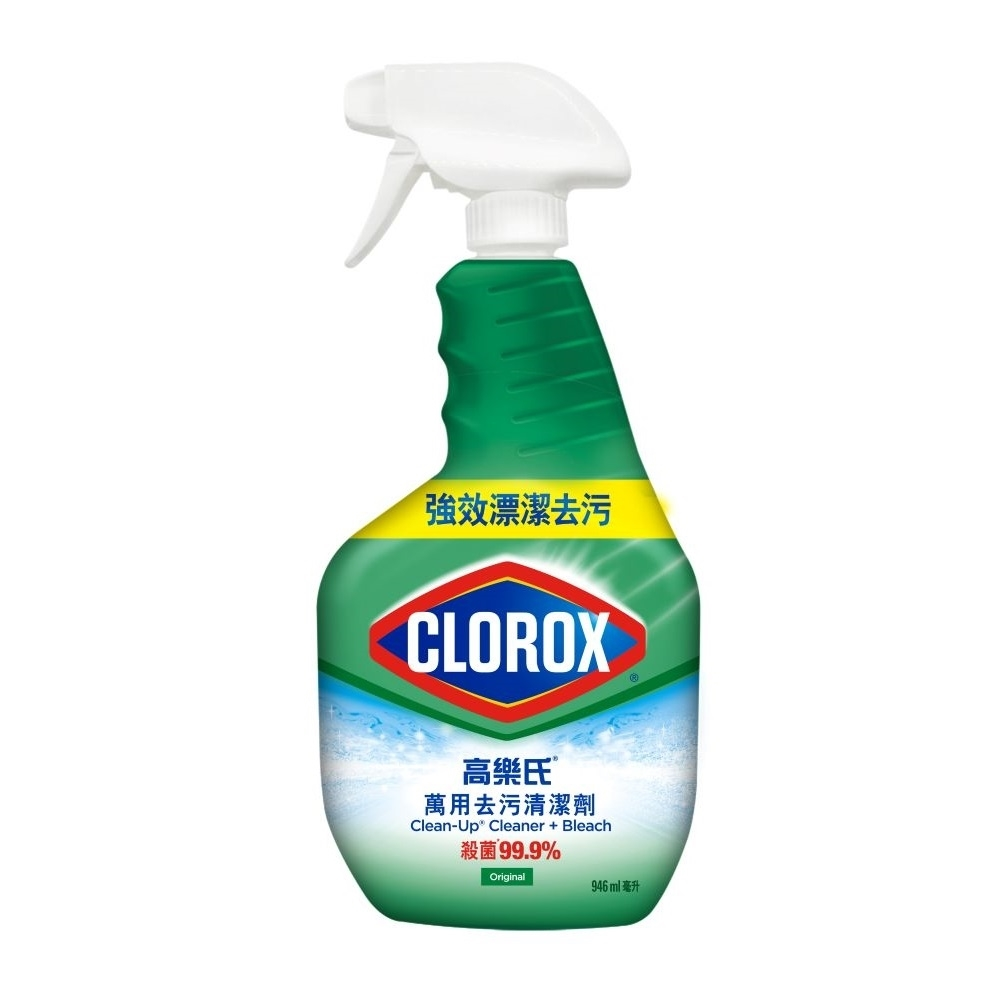cleaner: (294, 56, 742, 936)
